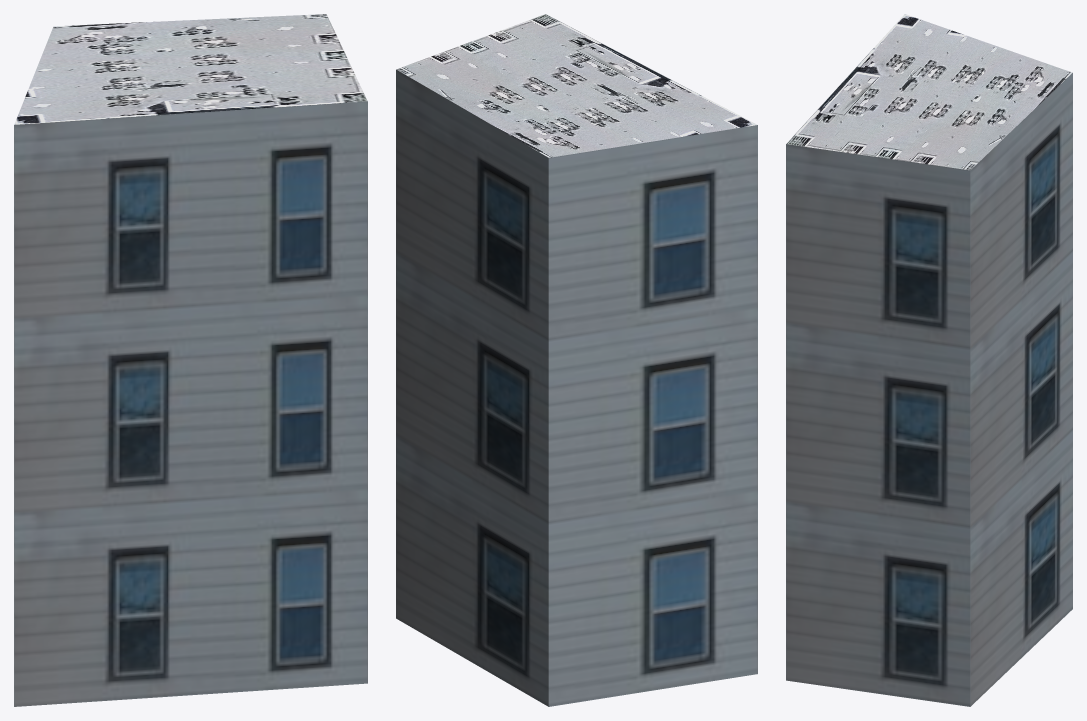
File: ResTex__2577.fbx
3 renders of one model, left to right at view 1: azimuth 30°, elevation 25°; view 2: azimuth 150°, elevation 25°; view 3: azimuth 270°, elevation 25°, orthographic. The views are drawn at different scales.
Parts seen in each view (by area): view 1: CityEngineMaterial_18_m, CityEngineMaterial_8_m; view 2: CityEngineMaterial_18_m, CityEngineMaterial_8_m; view 3: CityEngineMaterial_18_m, CityEngineMaterial_8_m.
Boxes of the visible parts, bbox=[...] form: CityEngineMaterial_18_m: bbox=[14, 101, 367, 706]; CityEngineMaterial_8_m: bbox=[14, 14, 367, 124]; CityEngineMaterial_18_m: bbox=[396, 69, 757, 706]; CityEngineMaterial_8_m: bbox=[396, 14, 756, 157]; CityEngineMaterial_18_m: bbox=[786, 73, 1072, 706]; CityEngineMaterial_8_m: bbox=[786, 14, 1072, 170].
Size of the model in its own units: 5.63 by 9 by 4.36.
2 materials, 2 textured.
